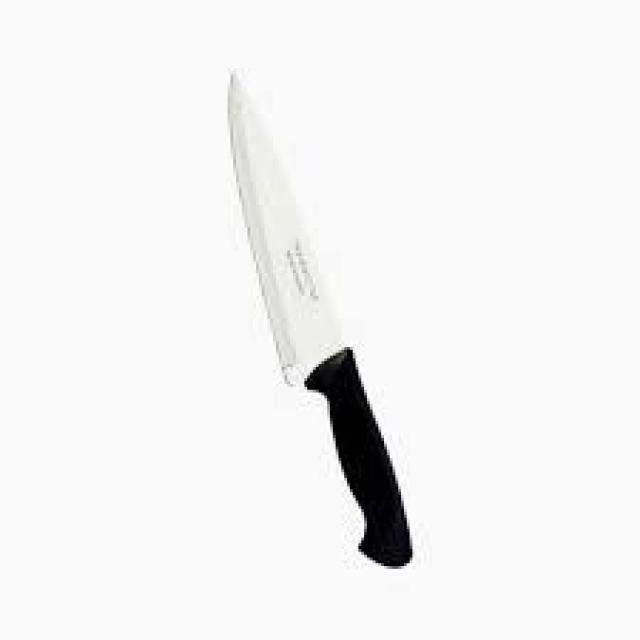Knife: (222, 65, 412, 566)
